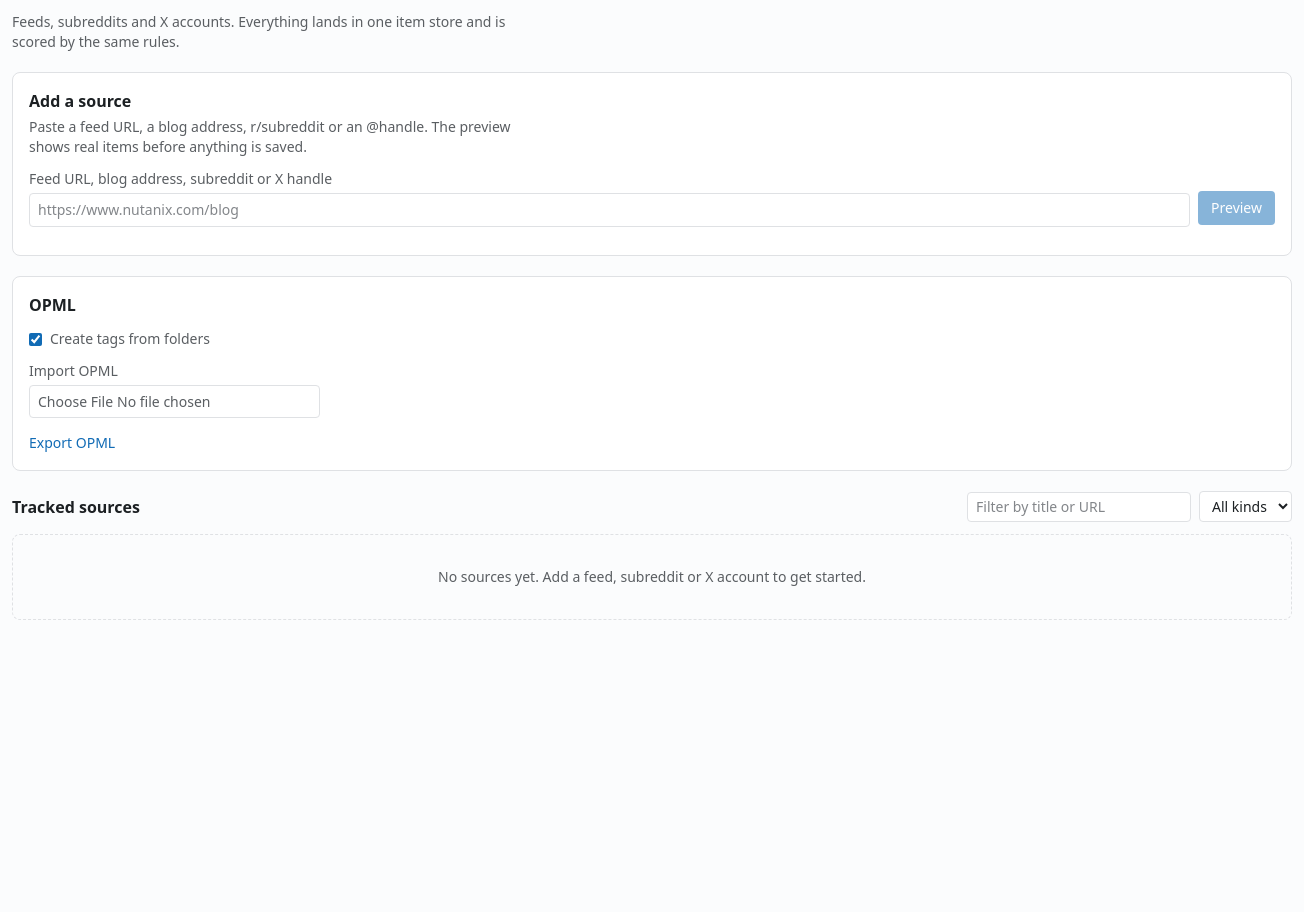
it: Sources › explains a failed resolve with the server message
In the field labelled "Feed URL, blog address, subreddit or X handle": (610, 210) [29,193,1190,227], type "nothing.example"
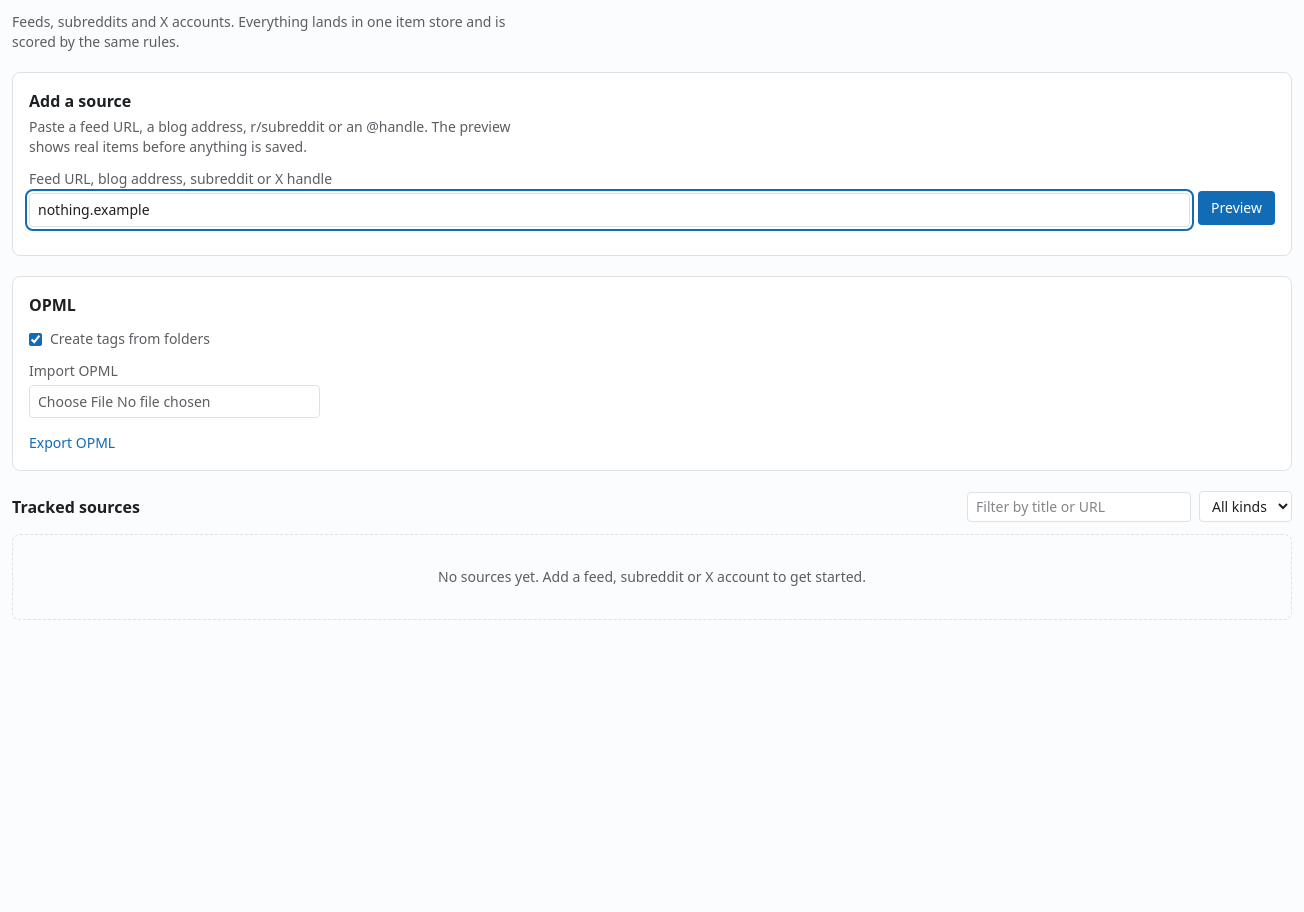
Click the button "Preview": click(1237, 208) [1198,191,1275,225]
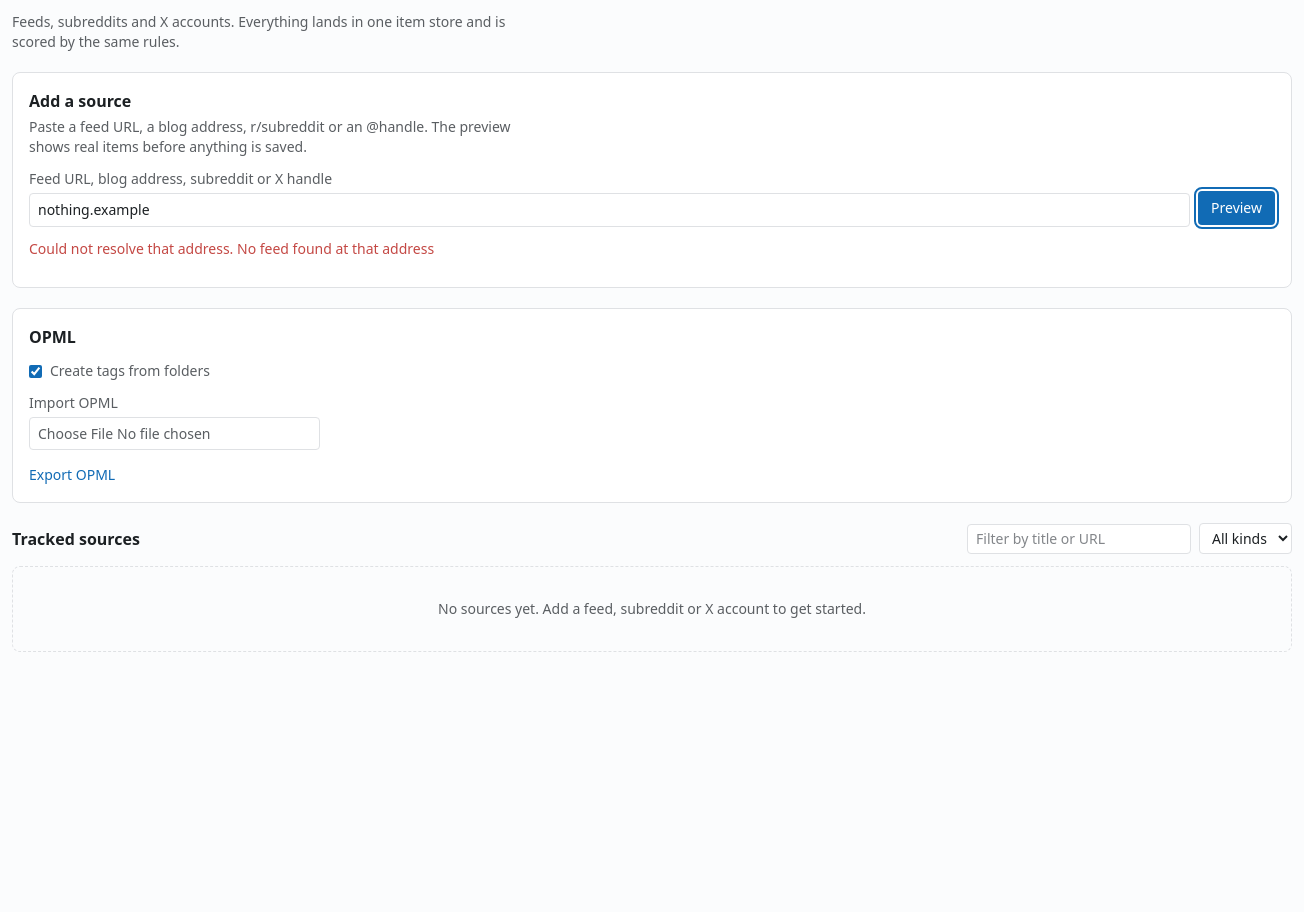
Check: the text "Could not resolve that address. No feed found at that address" is shown, box [29,239,434,258]
